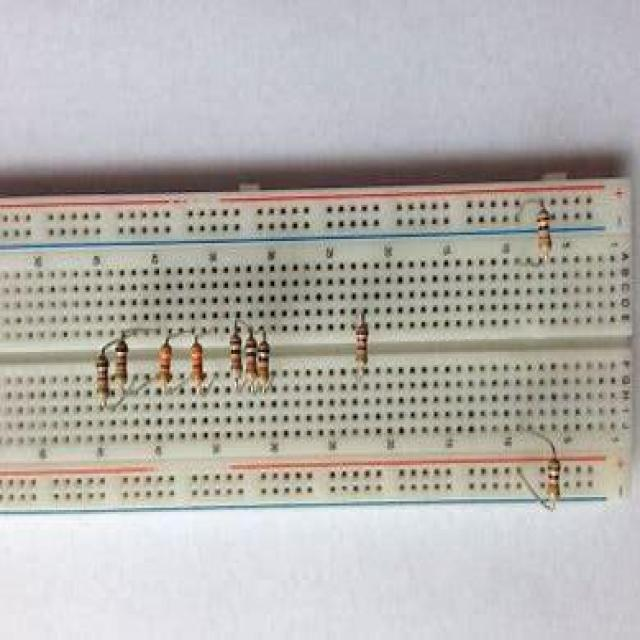Resistor: (516, 432, 561, 509), (190, 336, 206, 388), (354, 312, 369, 366), (95, 344, 109, 401), (536, 205, 550, 258), (157, 338, 173, 383), (257, 332, 270, 381), (115, 340, 129, 384), (245, 327, 257, 378), (230, 323, 241, 378)
